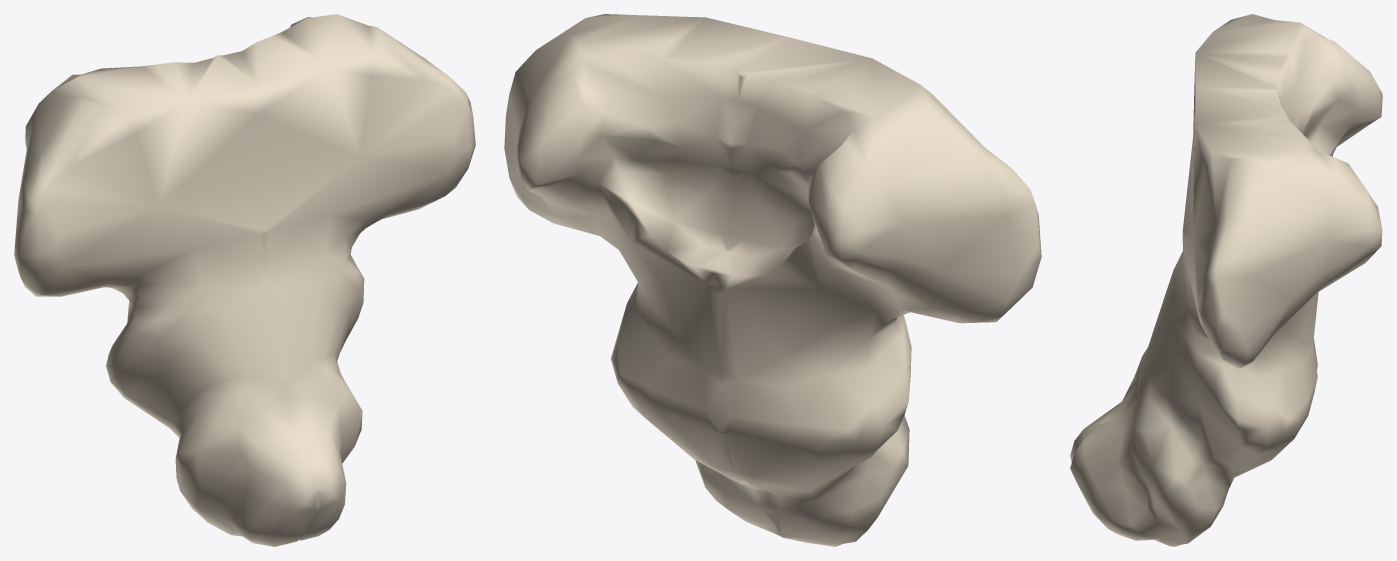
Rendered from skeletal.pelvis.glb.
3 renders of one model, left to right at view 1: azimuth 30°, elevation 25°; view 2: azimuth 150°, elevation 25°; view 3: azimuth 270°, elevation 25°, orthographic. The views are drawn at different scales.
Parts seen in each view (by area): view 1: coccyx; view 2: coccyx; view 3: coccyx.
Part boxes in pixels (bbox=[...]): coccyx: bbox=[14, 14, 475, 546]; coccyx: bbox=[504, 14, 1041, 546]; coccyx: bbox=[1070, 14, 1382, 546].
Bounding box in the file's own units: 0.0322 × 0.0296 × 0.0187.
